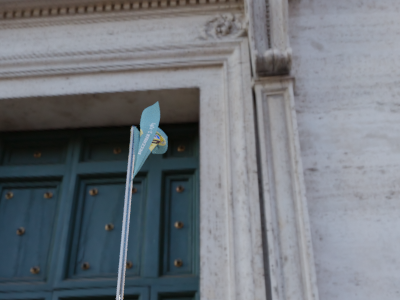Delaware flag: (130, 101, 174, 186)
